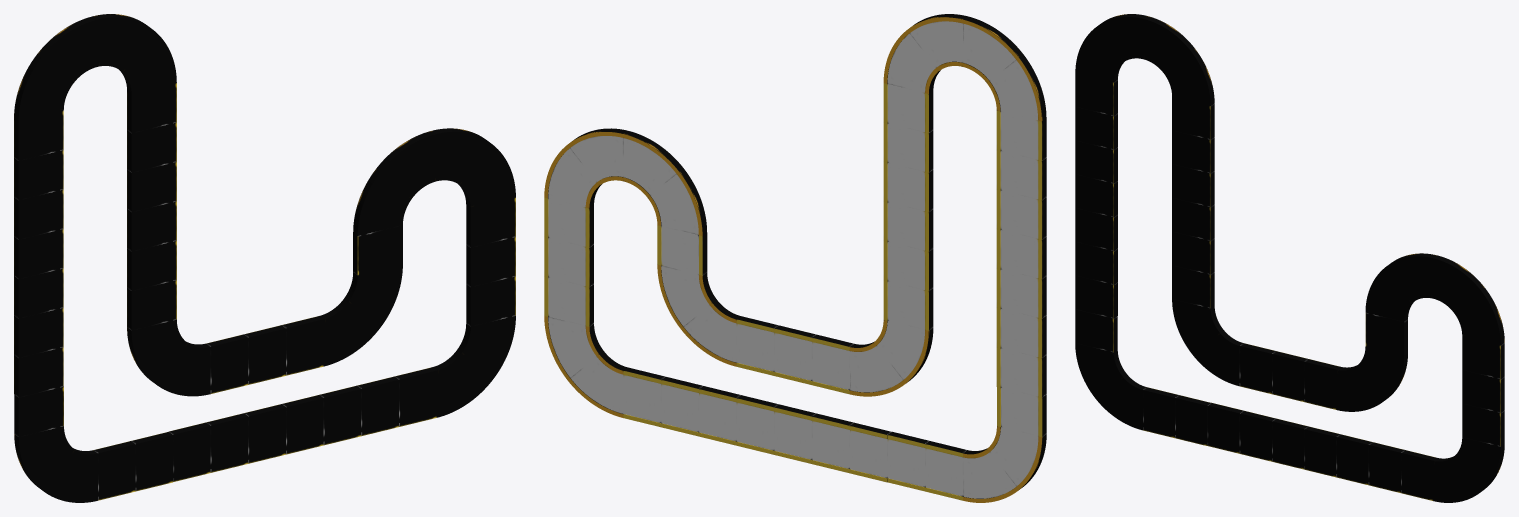
Rendered from oval_small.dae.
3 renders of one model, left to right at view 1: azimuth 30°, elevation 25°; view 2: azimuth 150°, elevation 25°; view 3: azimuth 330°, elevation 25°, orthographic. The views are drawn at different scales.
Visible parts, largest first — view 1: Cube.019, Cube.056, Cube.055, Cube.020, Cube.047, Cube.064, Cube.040, Cube, Cube.053, Cube.027, Cube.028, Cube.022 (+34 smaller); view 2: Cube.056, Cube.020, Cube.019, Cube.055, Cube.027, Cube, Cube.028, Cube.040, Cube.064, Cube.047, Cube.022, Cube.053 (+34 smaller); view 3: Cube.011, Cube.023, Cube.022, Cube.053, Cube.020, Cube.064, Cube.027, Cube, Cube.040, Cube.063, Cube.006, Cube.055 (+34 smaller).
Boxes of the visible parts, bbox=[...] form: Cube.019: bbox=[353, 168, 412, 235]; Cube.056: bbox=[14, 54, 73, 121]; Cube.055: bbox=[37, 16, 97, 82]; Cube.020: bbox=[376, 130, 436, 197]; Cube.047: bbox=[320, 300, 379, 366]; Cube.064: bbox=[14, 426, 73, 489]; Cube.040: bbox=[127, 319, 186, 383]; Cube: bbox=[343, 264, 402, 328]; Cube.053: bbox=[93, 14, 153, 71]; Cube.027: bbox=[456, 316, 515, 379]; Cube.028: bbox=[432, 351, 492, 417]; Cube.022: bbox=[433, 128, 492, 185]; Cube.056: bbox=[987, 54, 1046, 121]; Cube.020: bbox=[623, 131, 683, 197]; Cube.019: bbox=[647, 169, 707, 235]; Cube.055: bbox=[962, 16, 1022, 82]; Cube.027: bbox=[544, 316, 603, 379]; Cube: bbox=[657, 264, 716, 328]; Cube.028: bbox=[567, 351, 627, 417]; Cube.040: bbox=[874, 320, 933, 383]; Cube.064: bbox=[987, 426, 1046, 489]; Cube.047: bbox=[681, 300, 740, 366]; Cube.022: bbox=[567, 128, 627, 185]; Cube.053: bbox=[907, 14, 966, 70]; Cube.011: bbox=[1164, 48, 1214, 105]; Cube.023: bbox=[1454, 288, 1504, 345]; Cube.022: bbox=[1433, 255, 1484, 312]; Cube.053: bbox=[1143, 16, 1194, 72]; Cube.020: bbox=[1385, 253, 1436, 302]; Cube.064: bbox=[1075, 343, 1125, 397]; Cube.027: bbox=[1454, 437, 1504, 491]; Cube: bbox=[1357, 346, 1407, 400]; Cube.040: bbox=[1172, 299, 1222, 353]; Cube.063: bbox=[1095, 373, 1146, 430]; Cube.006: bbox=[1192, 329, 1243, 386]; Cube.055: bbox=[1095, 14, 1146, 62].
Size of the model in its own units: 132 by 2.2 by 122.
Materials: 2 (2 with a texture image).
